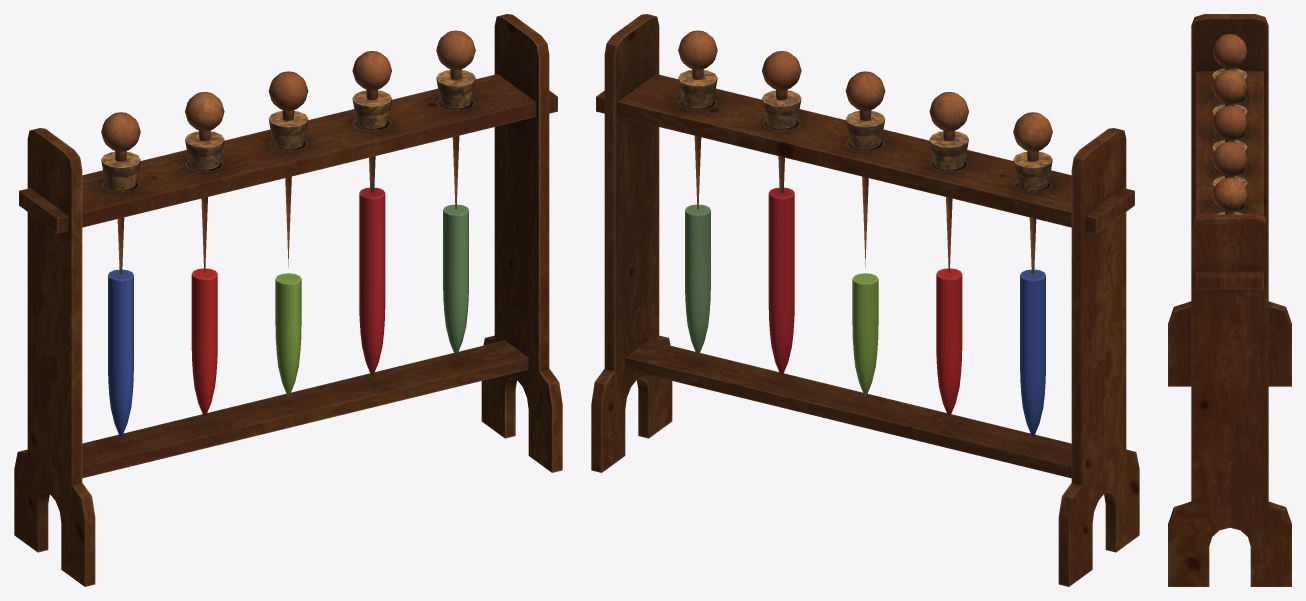
The model's file is DS_WizLab_Clut_TestTube.fbx.
3 views of the same model, side by side, from view 1: azimuth 30°, elevation 25°; view 2: azimuth 150°, elevation 25°; view 3: azimuth 270°, elevation 25° (orthographic). The views are drawn at different scales.
Visible parts, largest first — view 1: DS_WizLab_Clut_TestTube_Stand; view 2: DS_WizLab_Clut_TestTube_Stand; view 3: DS_WizLab_Clut_TestTube_Stand.
Boxes of the visible parts, x1,y1,x2,y2 form: DS_WizLab_Clut_TestTube_Stand: (14,14,562,586); DS_WizLab_Clut_TestTube_Stand: (591,14,1139,586); DS_WizLab_Clut_TestTube_Stand: (1168,14,1291,586).
Bounding box in the file's own units: 31.29 × 25.68 × 7.64.
Materials: 1 (1 with a texture image).
